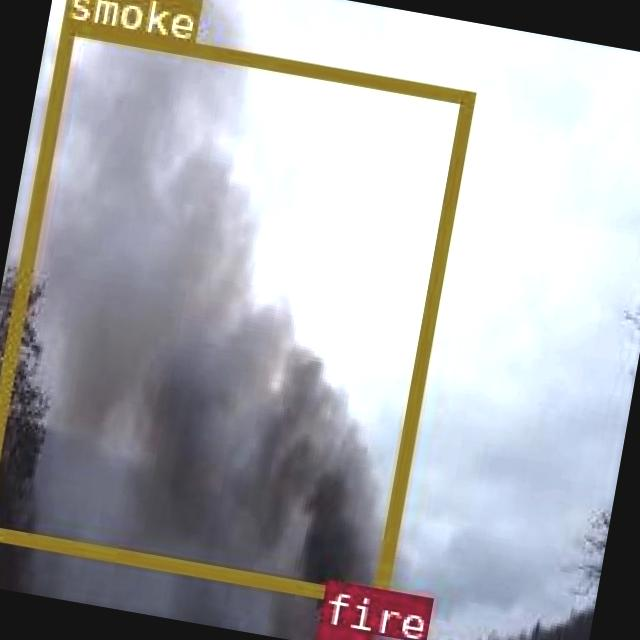fire: (315, 622, 366, 640)
smoke: (0, 16, 474, 606)
